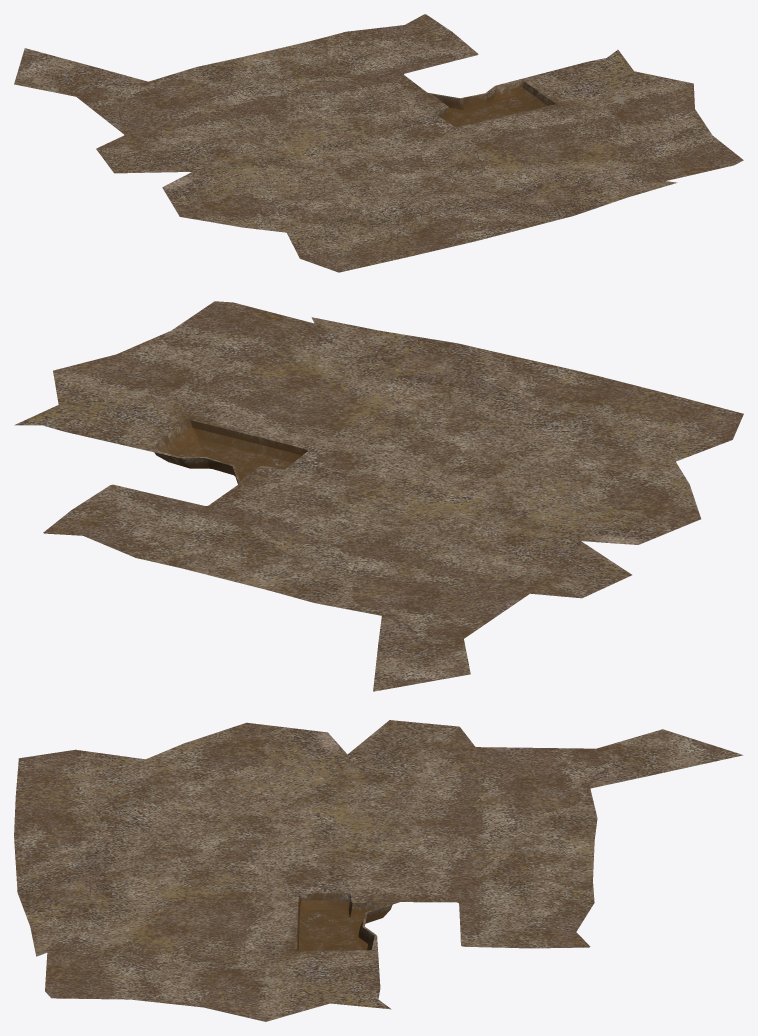
File: suelo_t_3.obj
3 views of the same model, one above another, from view 1: azimuth 30°, elevation 25°; view 2: azimuth 150°, elevation 25°; view 3: azimuth 270°, elevation 25° (orthographic). The views are drawn at different scales.
Visible parts, largest first — view 1: suelo_t_3; view 2: suelo_t_3; view 3: suelo_t_3.
Boxes of the visible parts, bbox=[...] form: suelo_t_3: bbox=[14, 14, 743, 272]; suelo_t_3: bbox=[14, 301, 743, 691]; suelo_t_3: bbox=[14, 720, 743, 1021].
Bounding box in the file's own units: 295 × 5.43 × 301.
1 material, 1 textured.
